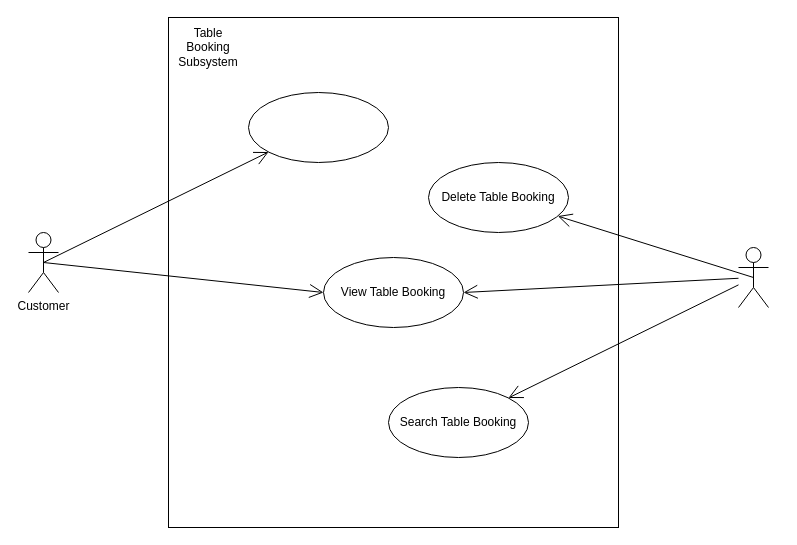
This 797x545 diagram has some shape labels left out. The box of each missing label's shape, as (x1, y1, x2, y2) in pixels:
Book a Table: (248, 92, 388, 162)
Cafe Staff: (738, 246, 768, 308)
